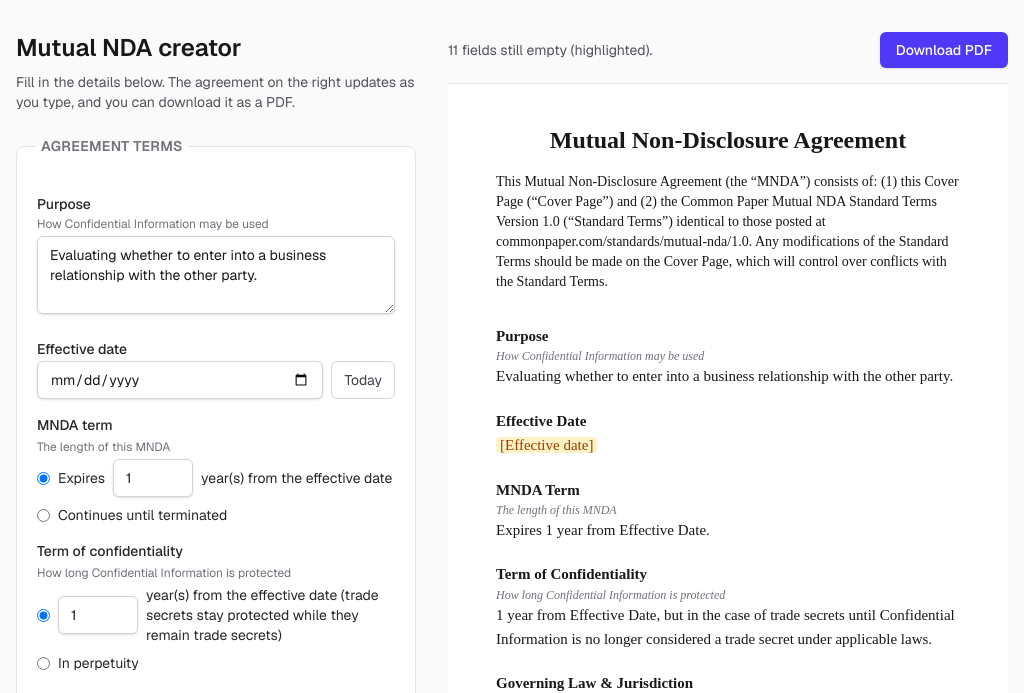
Test: NdaBuilder › PDF download › shows an error and re-enables the button when generation fails
Click the button "Download PDF". click: (944, 50)
box: [880,32,1008,68]
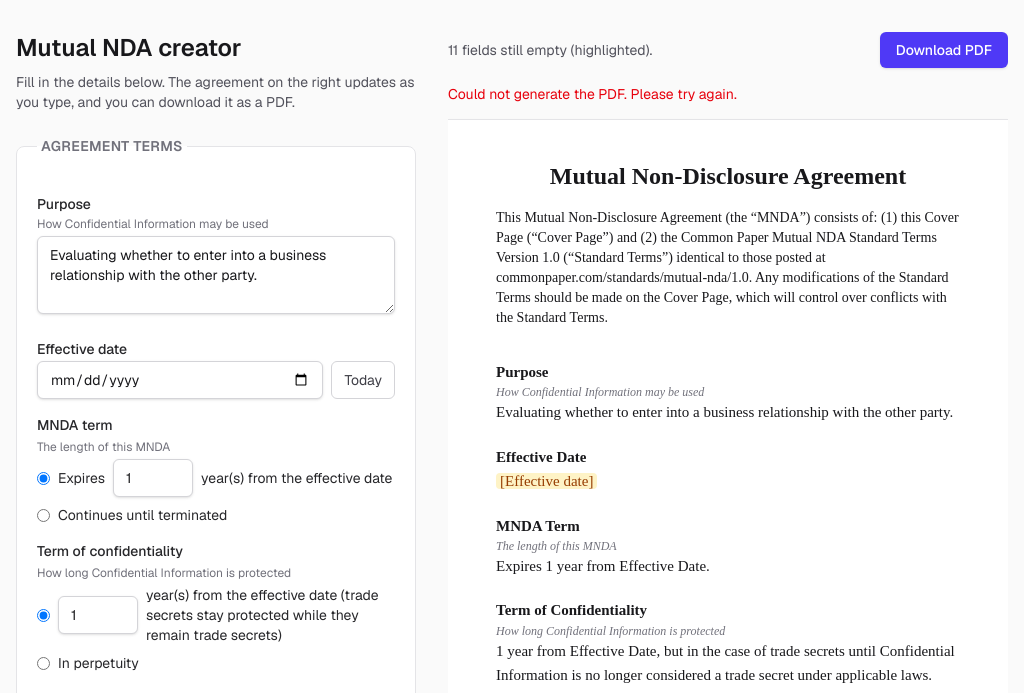
Expected: the text "Could not generate the PDF. Please try again." is shown, [448,85,737,103]
